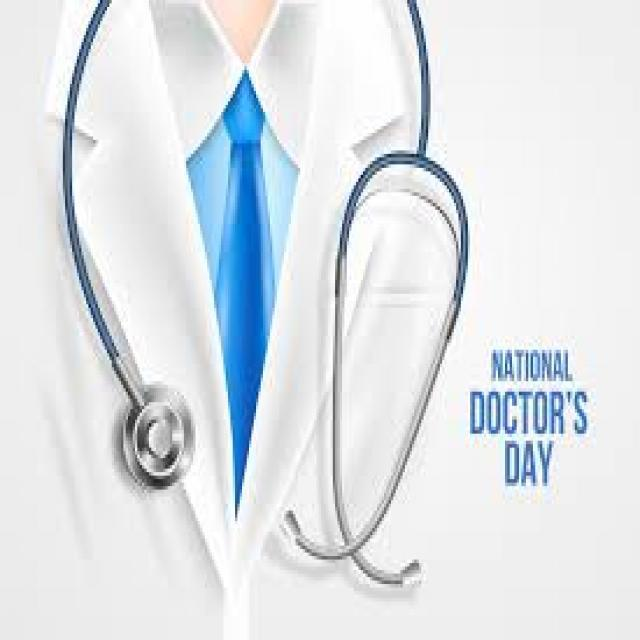stethoscope: (61, 106, 477, 608)
